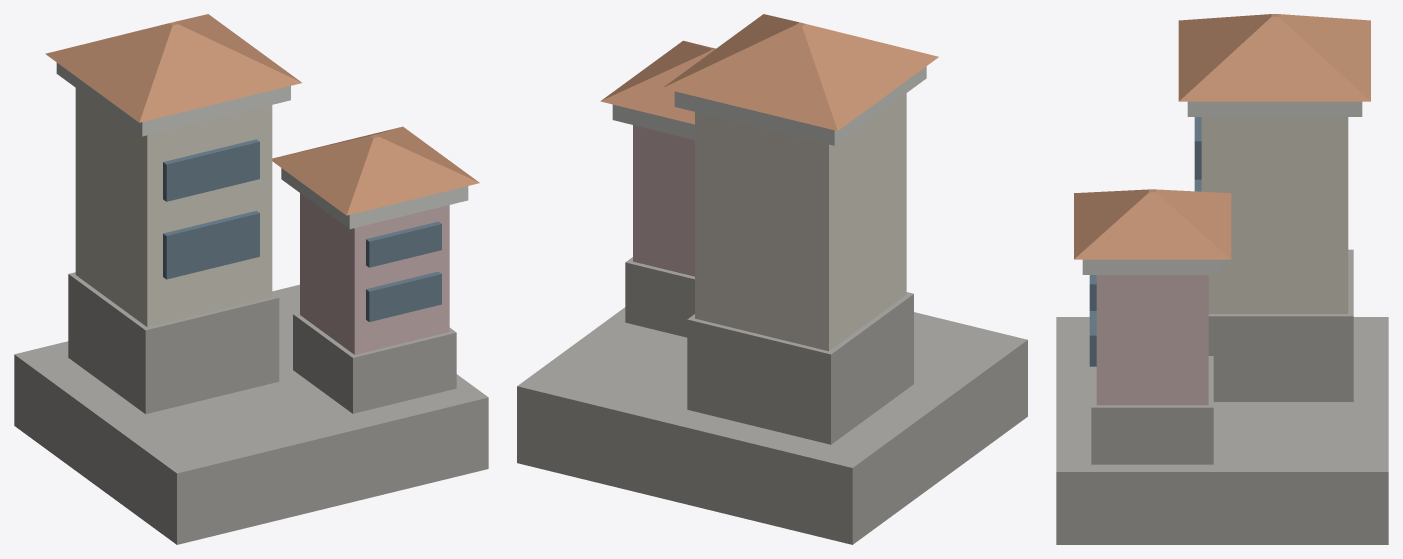
File: house-renaissance-2.glb
3 renders of one model, left to right at view 1: azimuth 30°, elevation 25°; view 2: azimuth 150°, elevation 25°; view 3: azimuth 270°, elevation 25°, orthographic. The views are drawn at different scales.
Visible parts, largest first — view 1: LOD0; view 2: LOD0; view 3: LOD0.
Boxes of the visible parts, x1,y1,x2,y2 form: LOD0: (14, 14, 488, 544); LOD0: (517, 14, 1027, 544); LOD0: (1056, 14, 1388, 544).
Size of what is drawn, in the model's own units: 0.21 by 0.2688 by 0.19.
